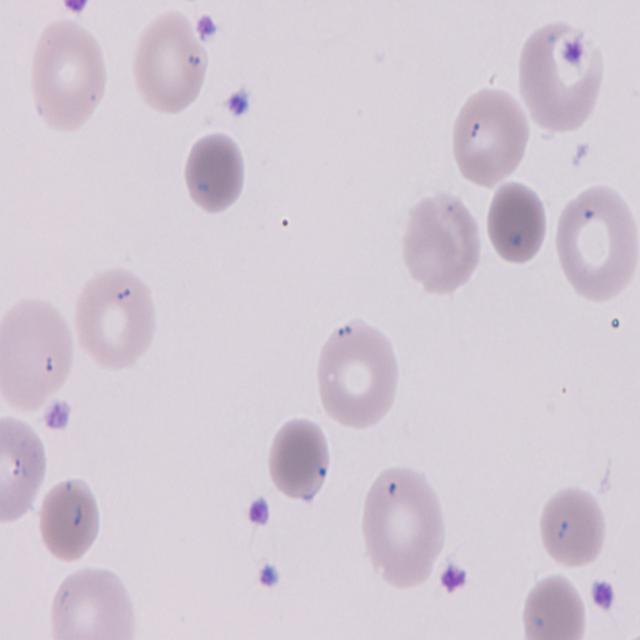RBC: (510, 8, 630, 153), (358, 463, 450, 588), (26, 16, 112, 140), (551, 185, 640, 303), (314, 319, 404, 433), (74, 262, 160, 373), (398, 188, 486, 292), (0, 295, 76, 415), (128, 8, 210, 115), (448, 85, 533, 186), (44, 562, 141, 640), (534, 482, 610, 570), (0, 414, 50, 531), (514, 574, 592, 640)
Spherocyte: (180, 129, 248, 220), (37, 475, 102, 567), (267, 416, 332, 503), (486, 180, 548, 266)
